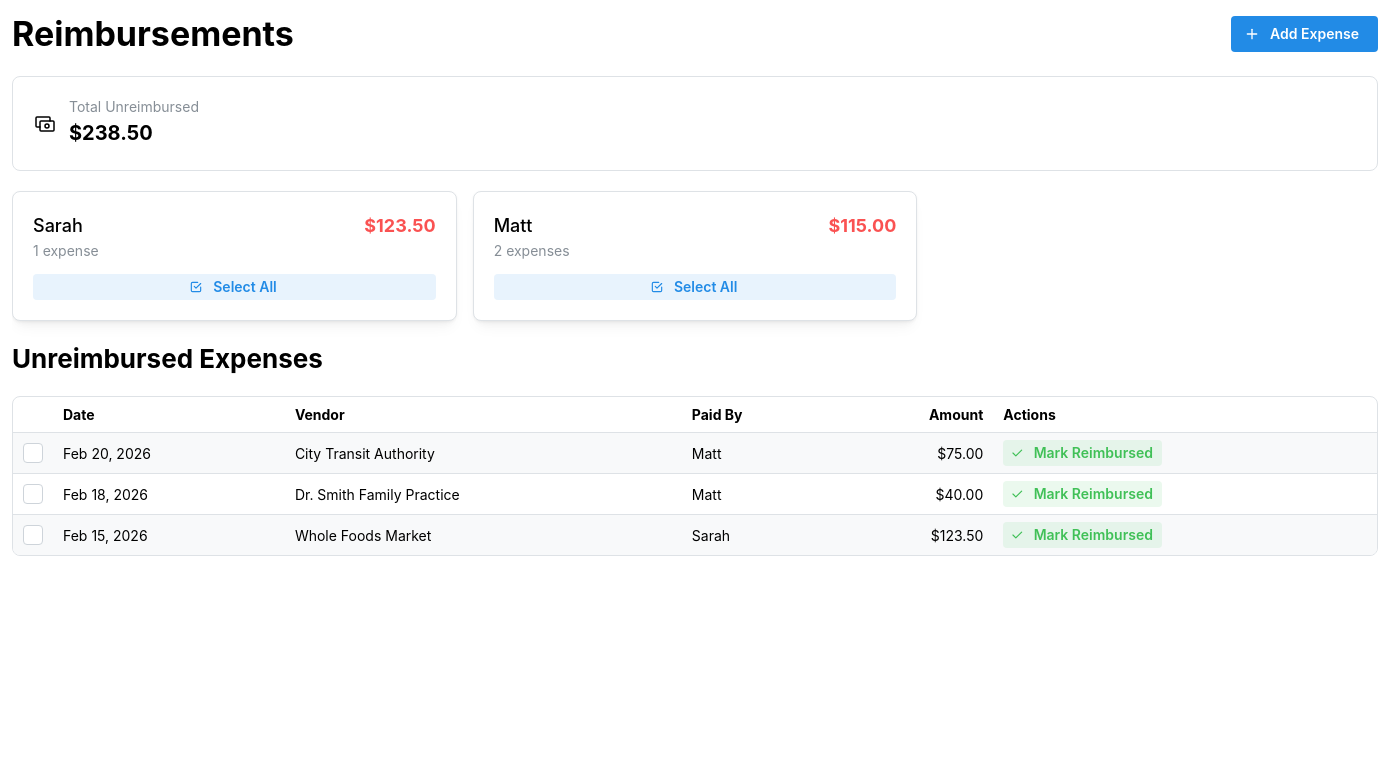
Test case: Reimbursements Page › Bulk Reimbursement › Floating Action Bar › shows action bar with count and total when expenses are selected
This screenshot has width=1378, height=780.
Expected: the table is shown, left=13, top=397, right=1377, bottom=555
Click the checkbox named "select City Transit Authority" at (33,453), box left=23, top=443, right=43, bottom=463
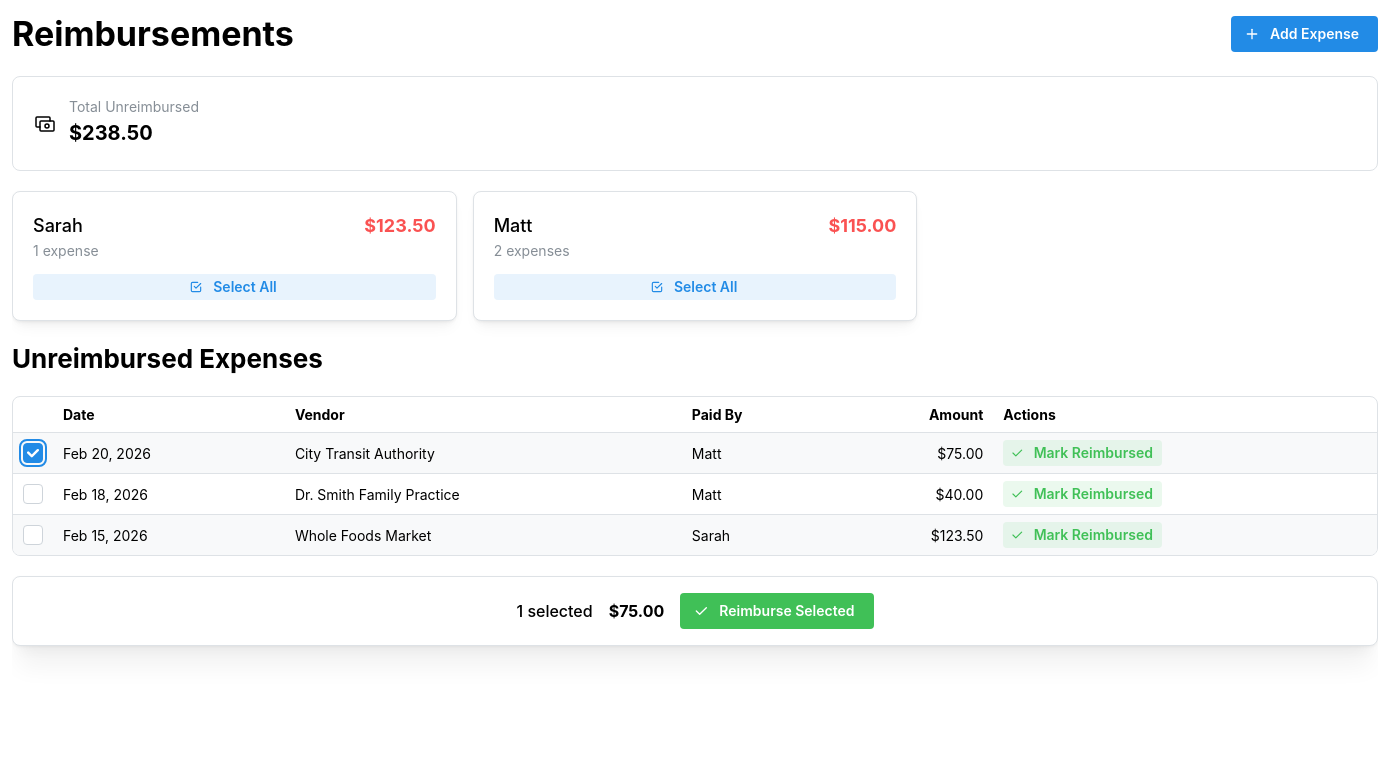
Expected: the button "Reimburse Selected" is shown, left=680, top=593, right=874, bottom=629
Expected: the text "1 selected" is shown, left=516, top=599, right=593, bottom=624
